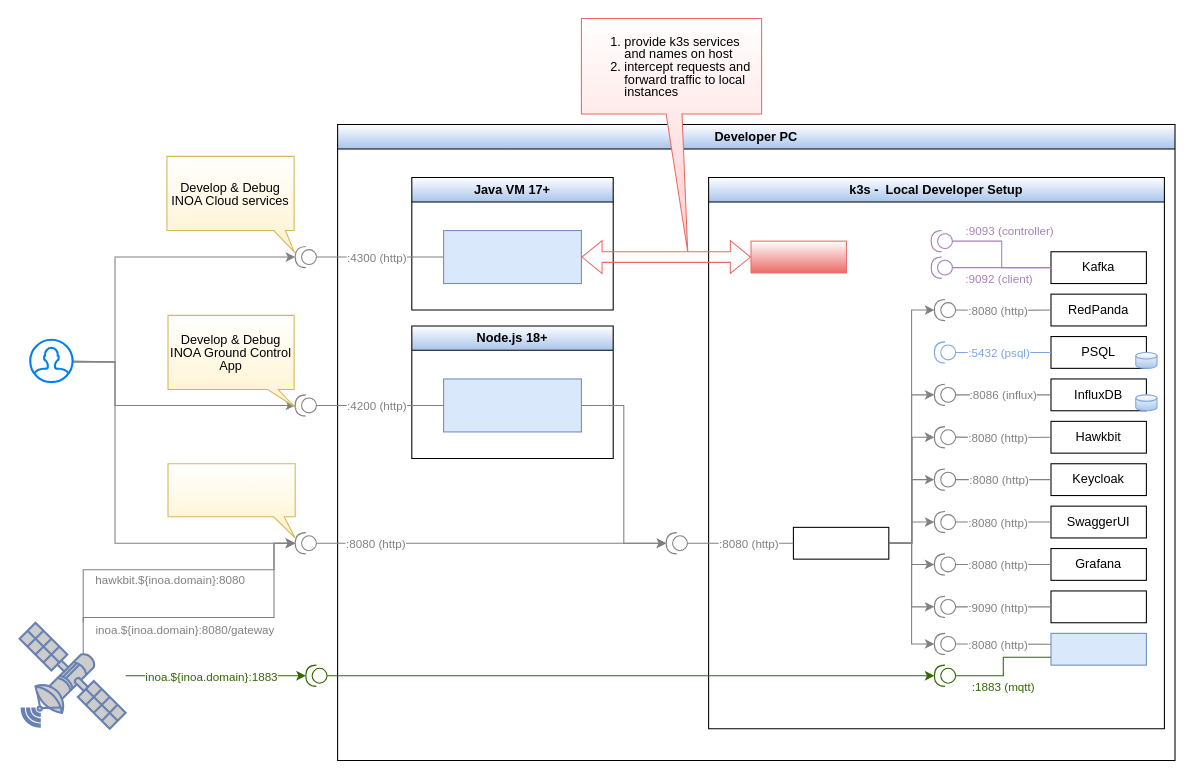
This 1194x779 diagram has some shape labels left out. The centre of each missing label's shape, as x and y in pixels:
- Try out INOA - Develop INOA OS: (x=231, y=500)
INOA: (x=1098, y=648)
INOA Cloud + GroundControl: (x=512, y=256)
INOA GroundControl: (x=512, y=405)
k8s Dashboard: (x=1098, y=606)
Telepresence: (x=798, y=256)
Traefik: (x=840, y=542)
